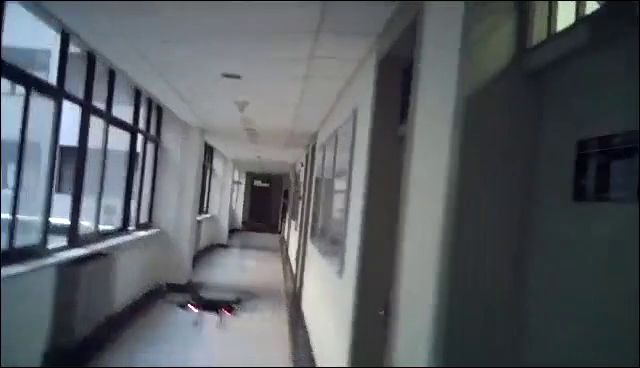drone: (160, 276, 260, 329)
